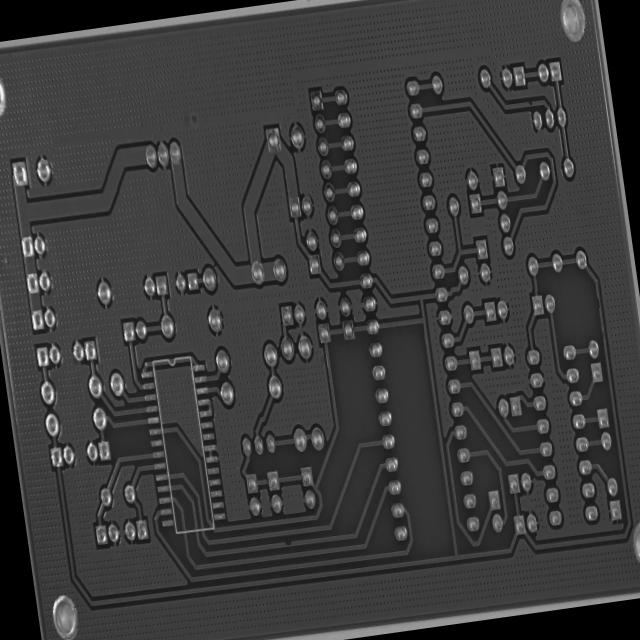mouse_bite: (282, 534, 294, 552), (594, 293, 604, 313), (526, 96, 534, 110)
